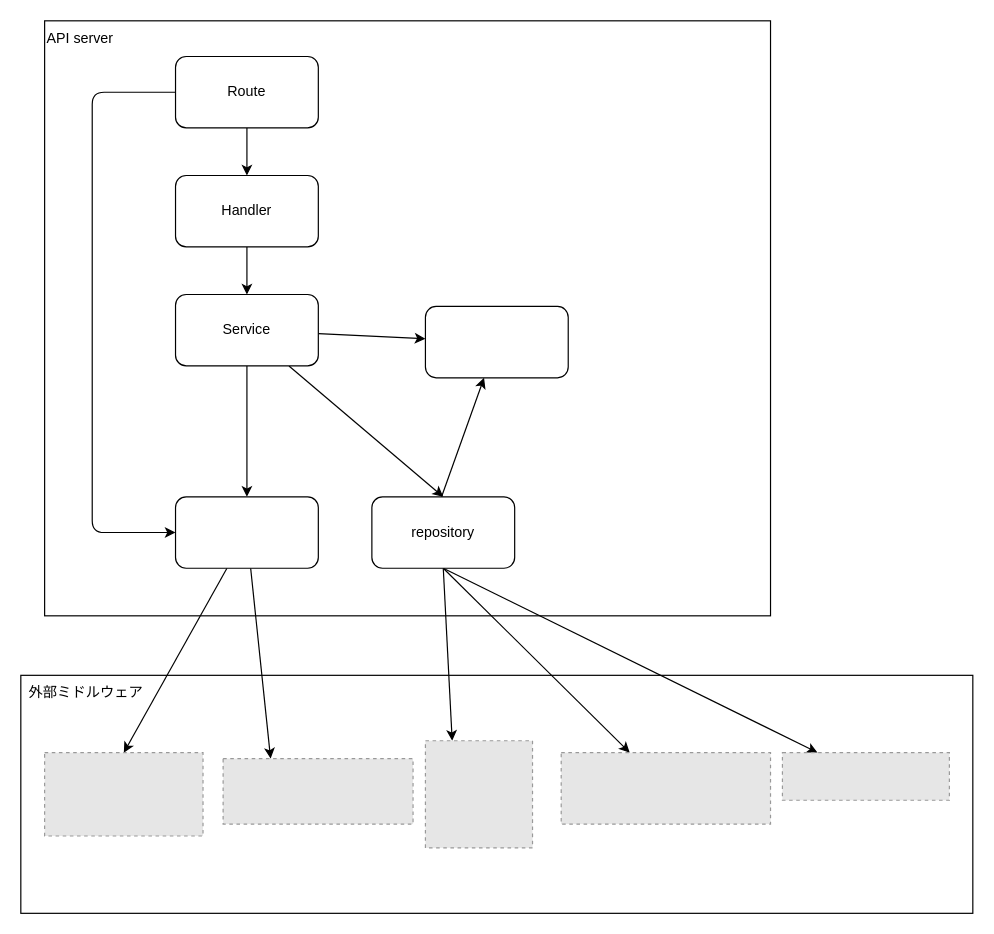
Image size: 994x934. Some labels were removed from this diagram. Grey dashed boxes stand in for pictures. Here are the shapes that lost their labels. From the top down, the centre of each, then its label:
At [496,341]: "model".
At [246,532]: "infrastructure".
